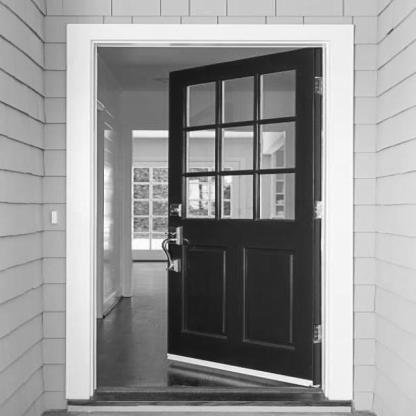door: (51, 11, 364, 405)
